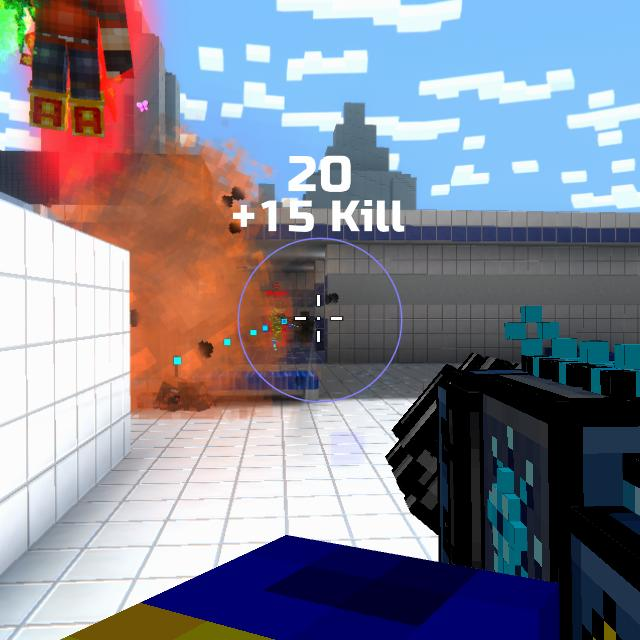Enemy: (29, 0, 135, 137), (266, 301, 289, 344)
